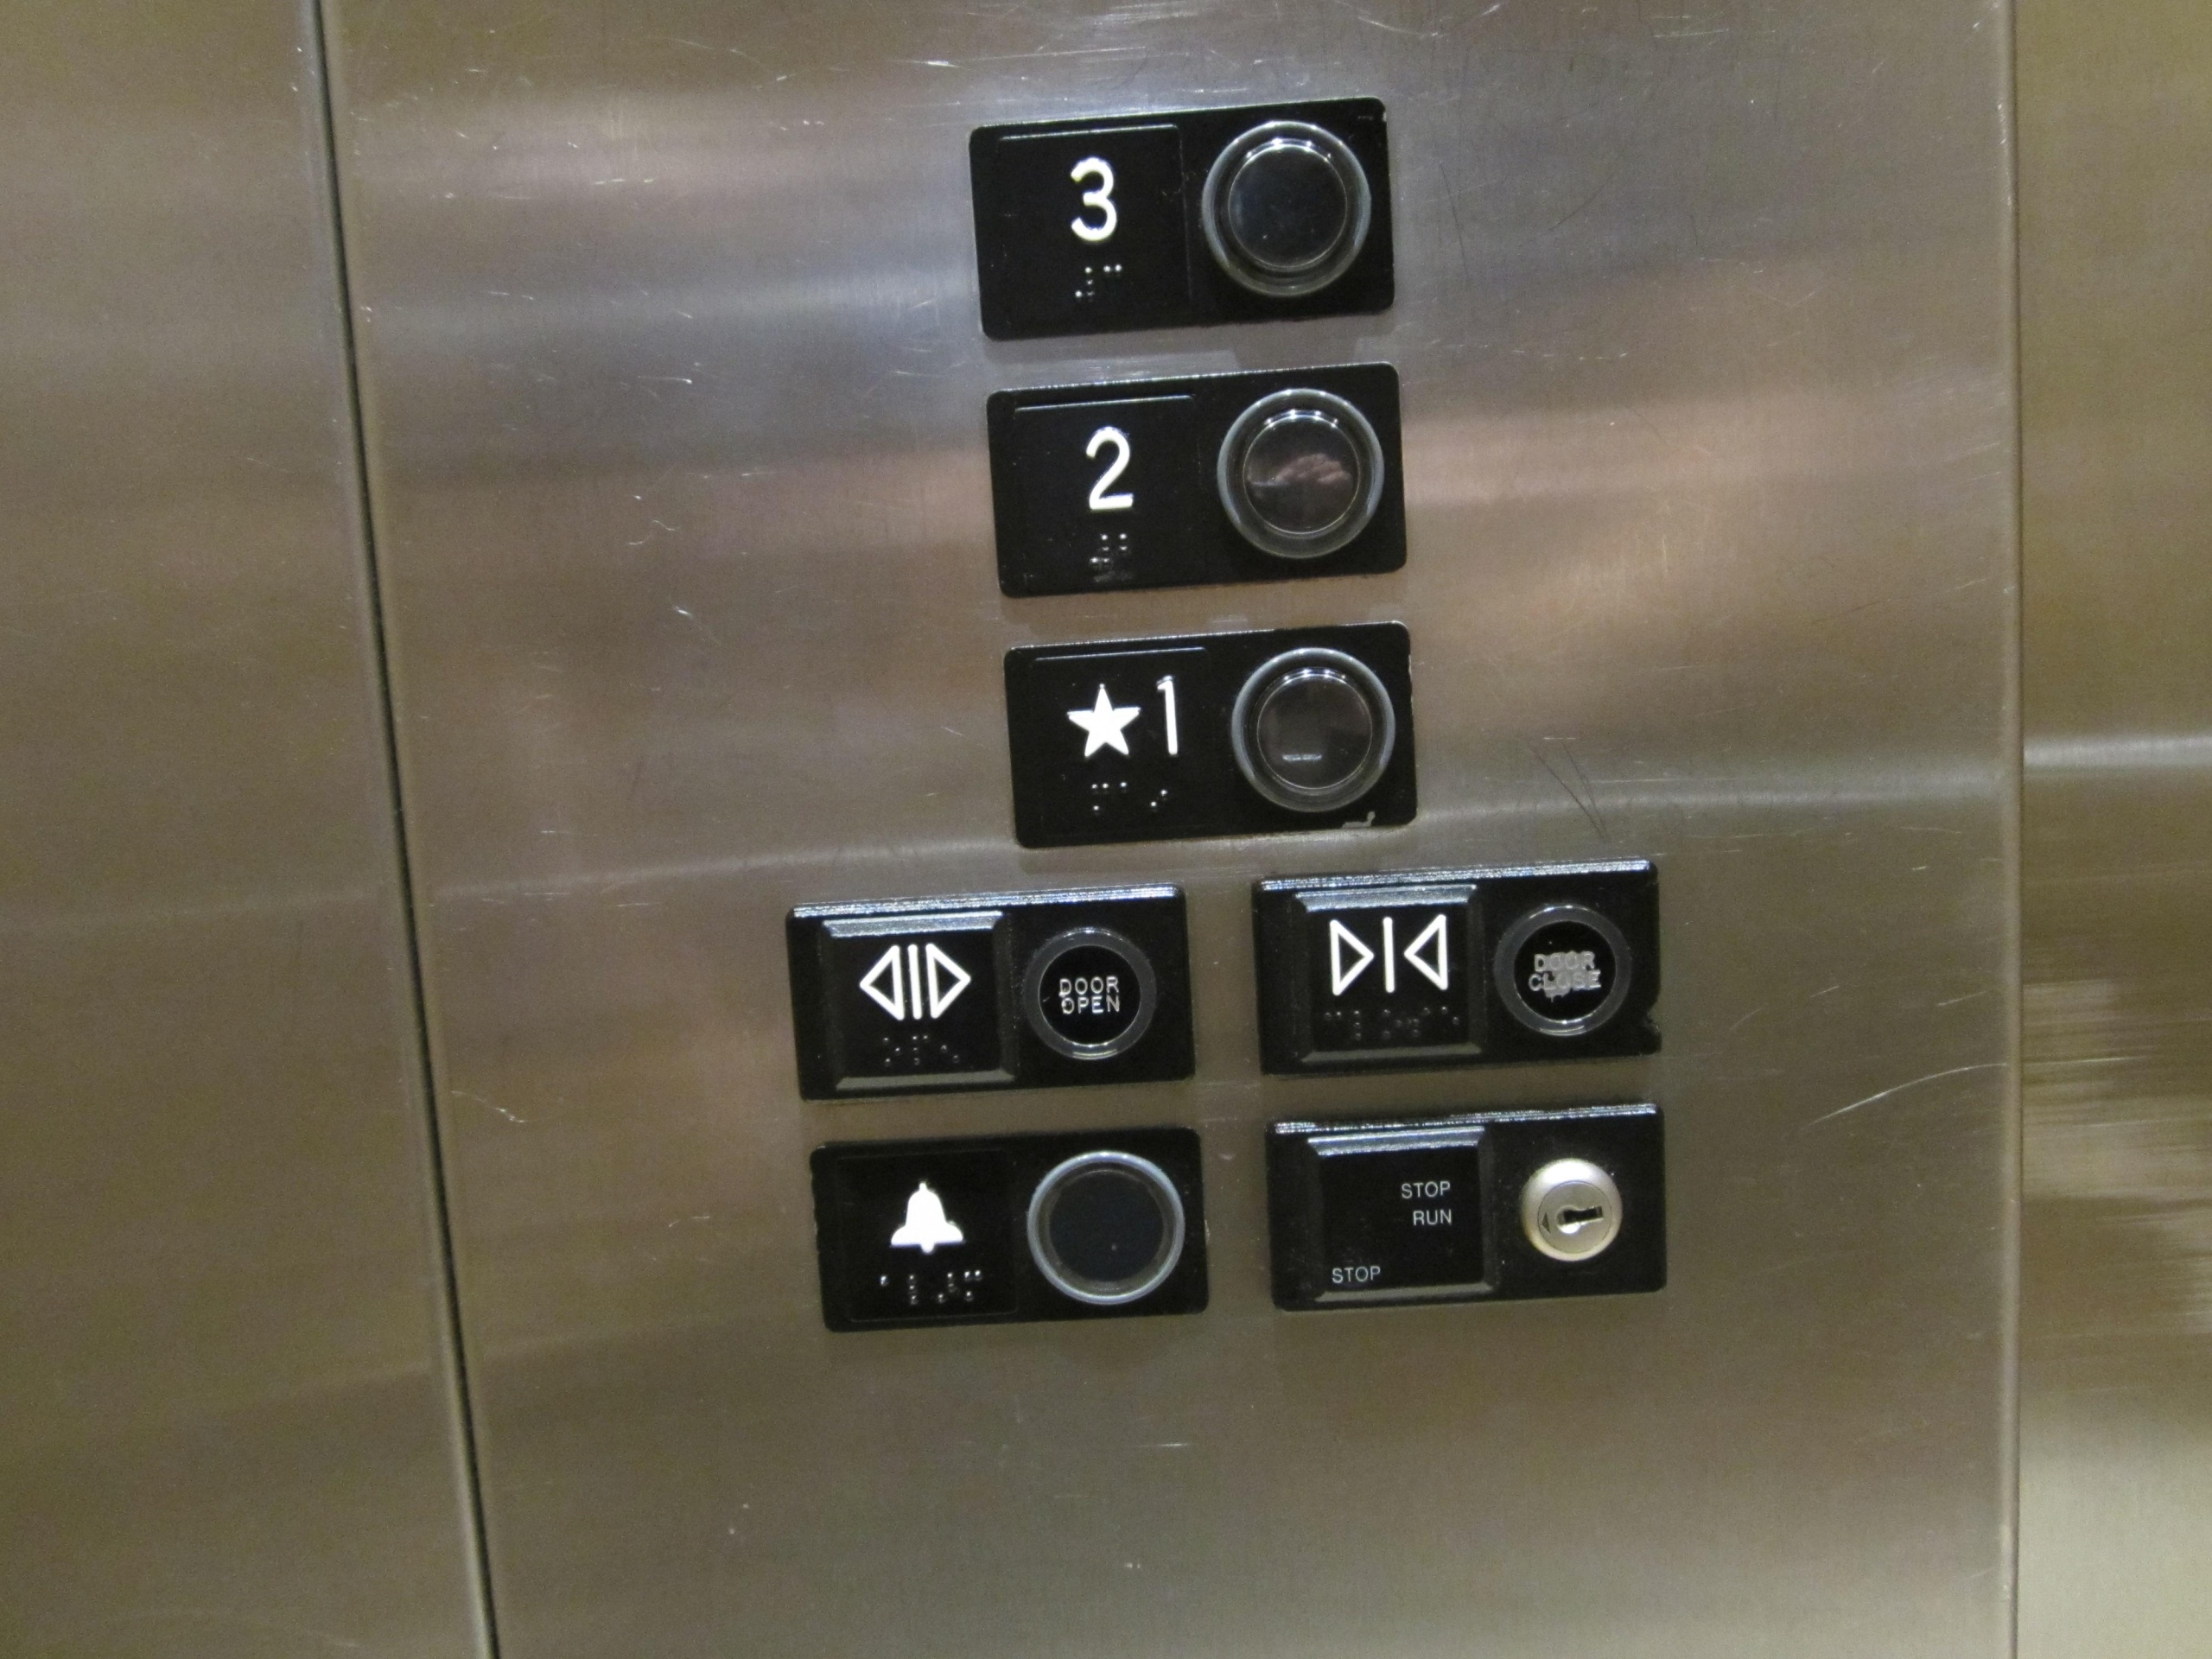2: (974, 355, 1416, 603)
3: (958, 87, 1399, 345)
alarm: (803, 1114, 1217, 1338)
close: (1245, 847, 1674, 1082)
open: (773, 875, 1202, 1108)
s1: (995, 610, 1425, 857)
text: (1259, 1089, 1681, 1321)
